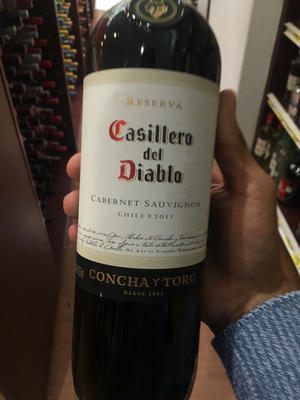casillero del diablo cabernet sauvignon: (67, 18, 223, 400)
